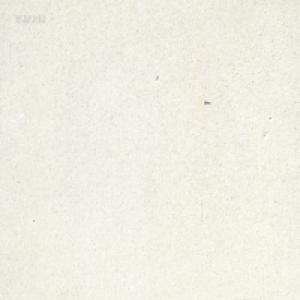Nail: (204, 99, 210, 105)
